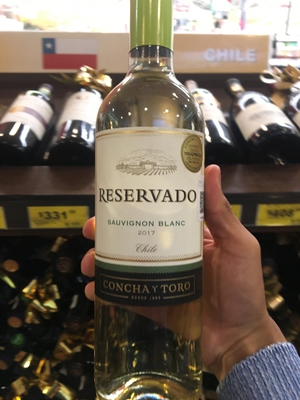reservado sauvignon blanc: (96, 2, 206, 377)
